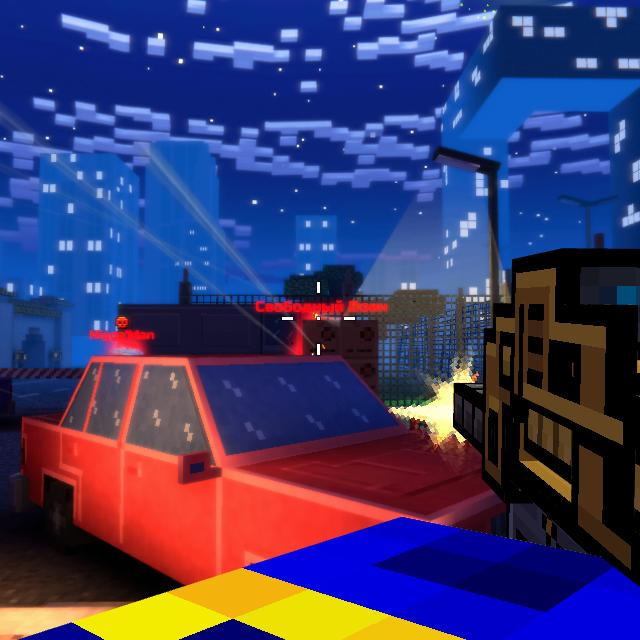Enemy: (111, 347, 143, 355)
